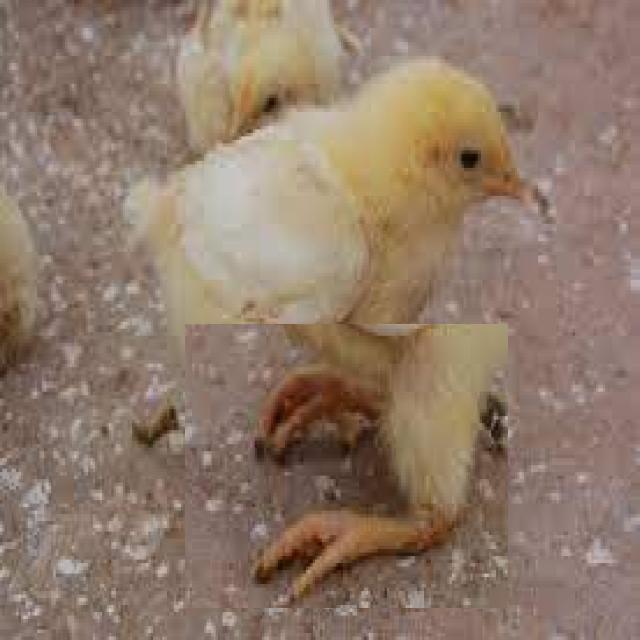AbNormal: (235, 353, 480, 611)
